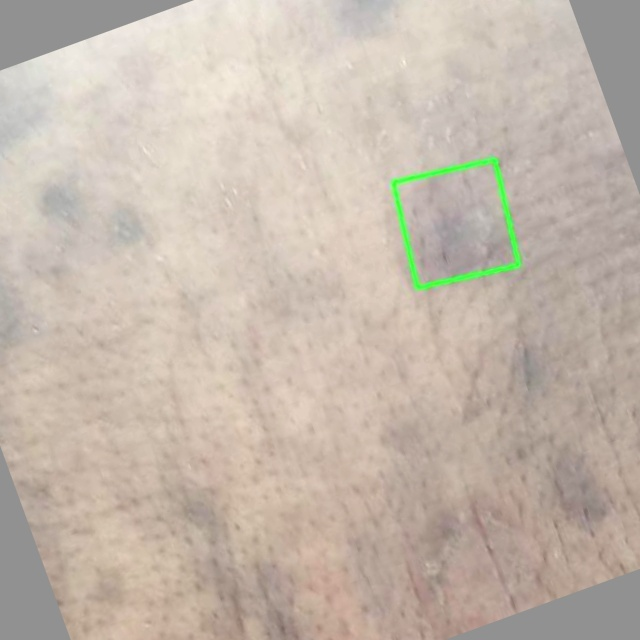Tinea Corporis: (393, 160, 518, 288)
